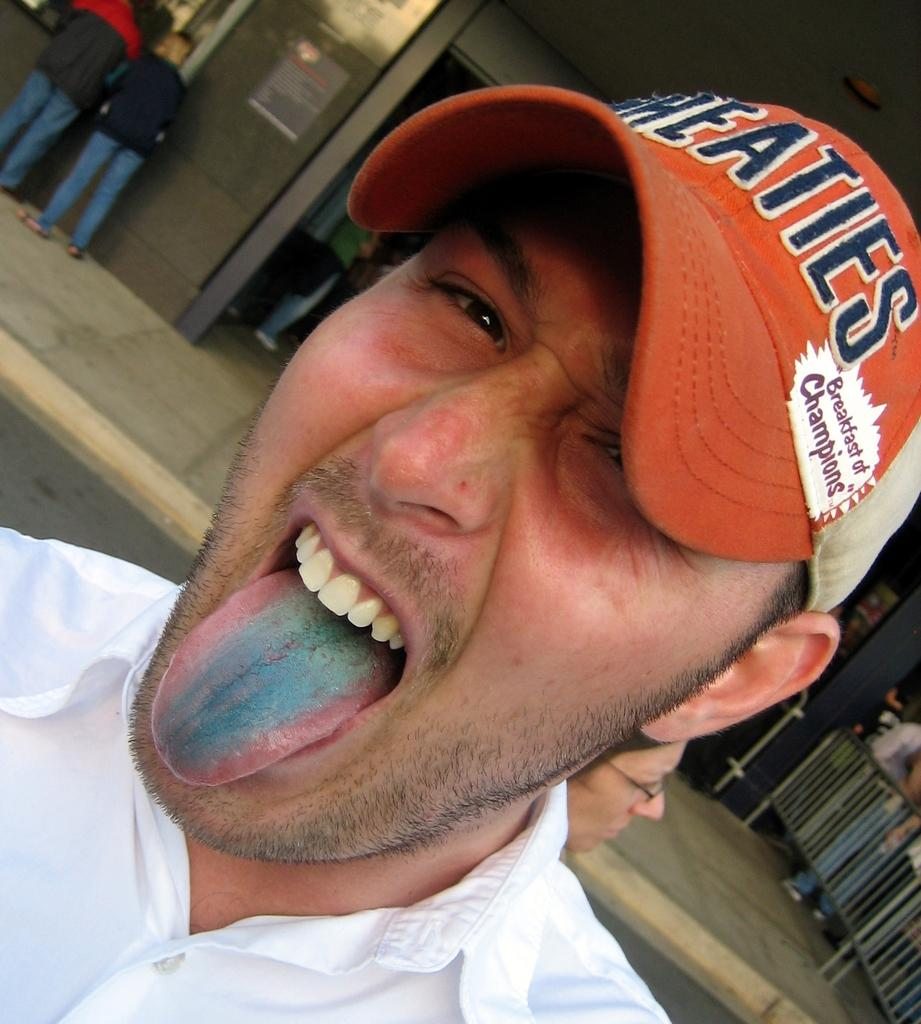Hat: (339, 82, 920, 610)
